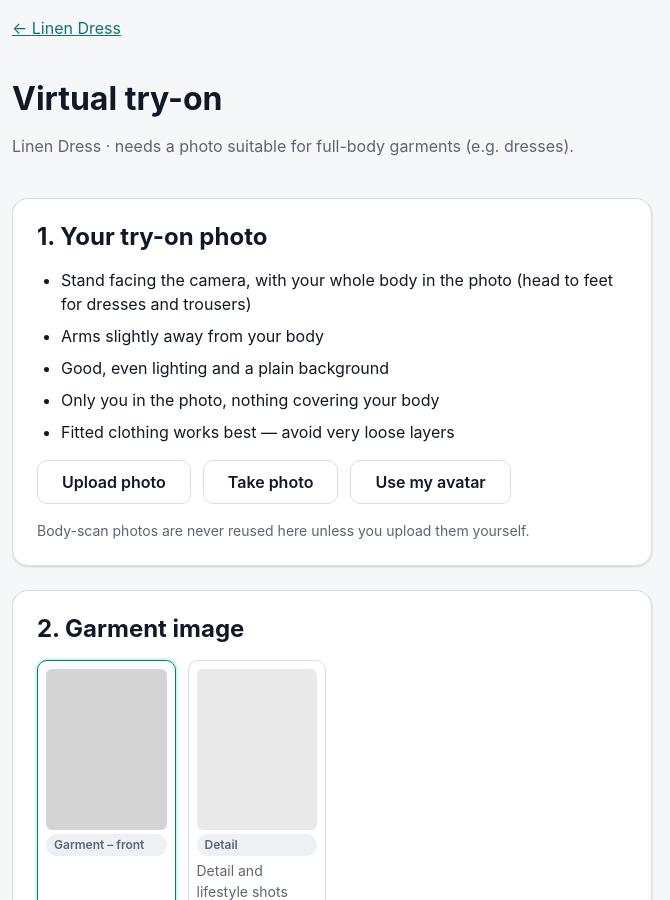
avatar try-on › warns that avatar try-on is unverified with a real provider
The image size is (670, 900).
Click the button "Use my avatar".
click(431, 482)  # box [350, 460, 511, 504]
(page scrolled)
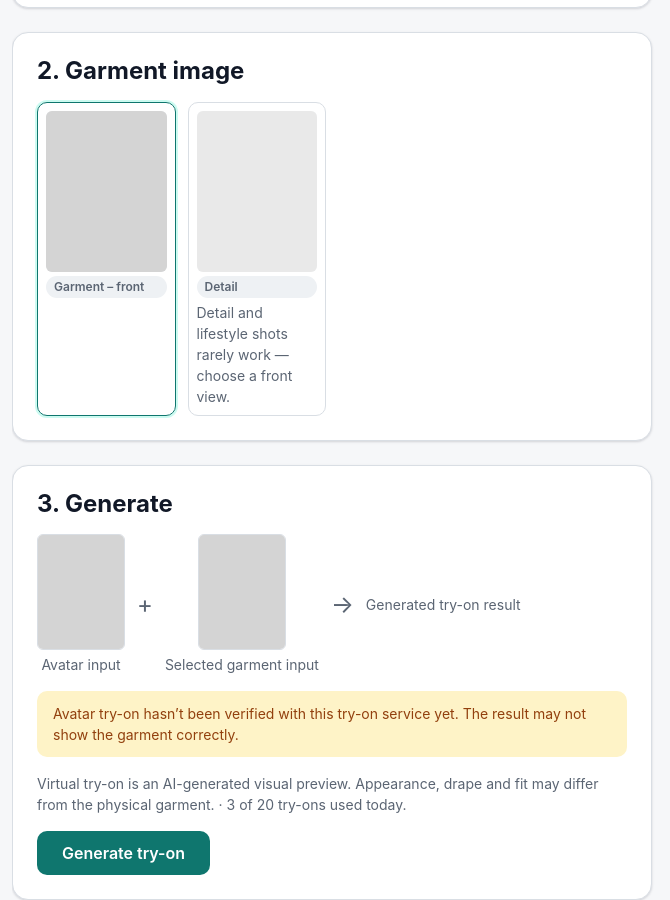
expect the text "Avatar try-on hasn’t been verified with this try-on service yet" is shown: met, box [53, 705, 586, 743]
